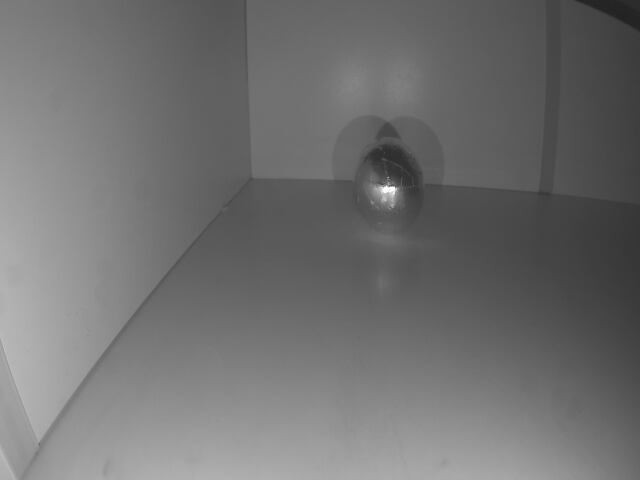Live: (355, 139, 422, 236)
